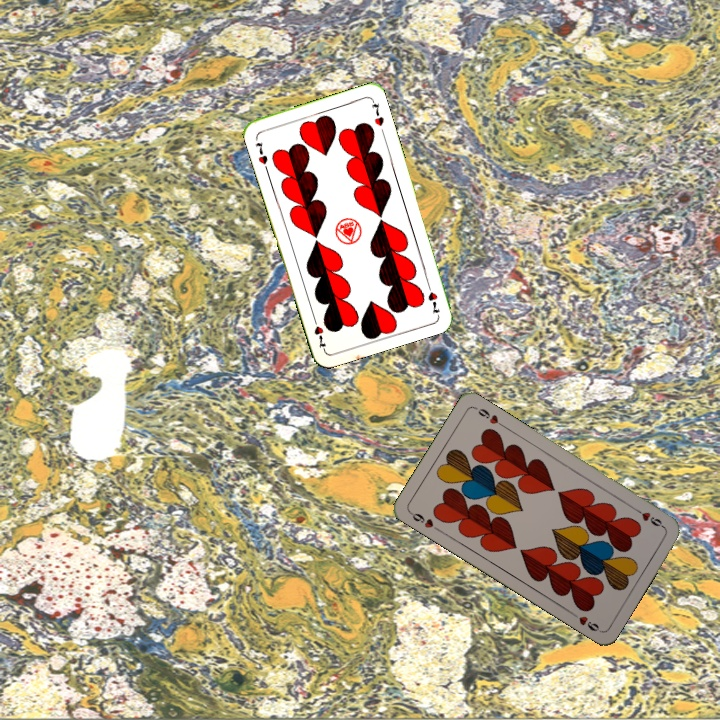H7: (423, 278, 442, 316), (251, 138, 270, 167)
H9: (630, 504, 667, 531), (406, 508, 442, 534)
